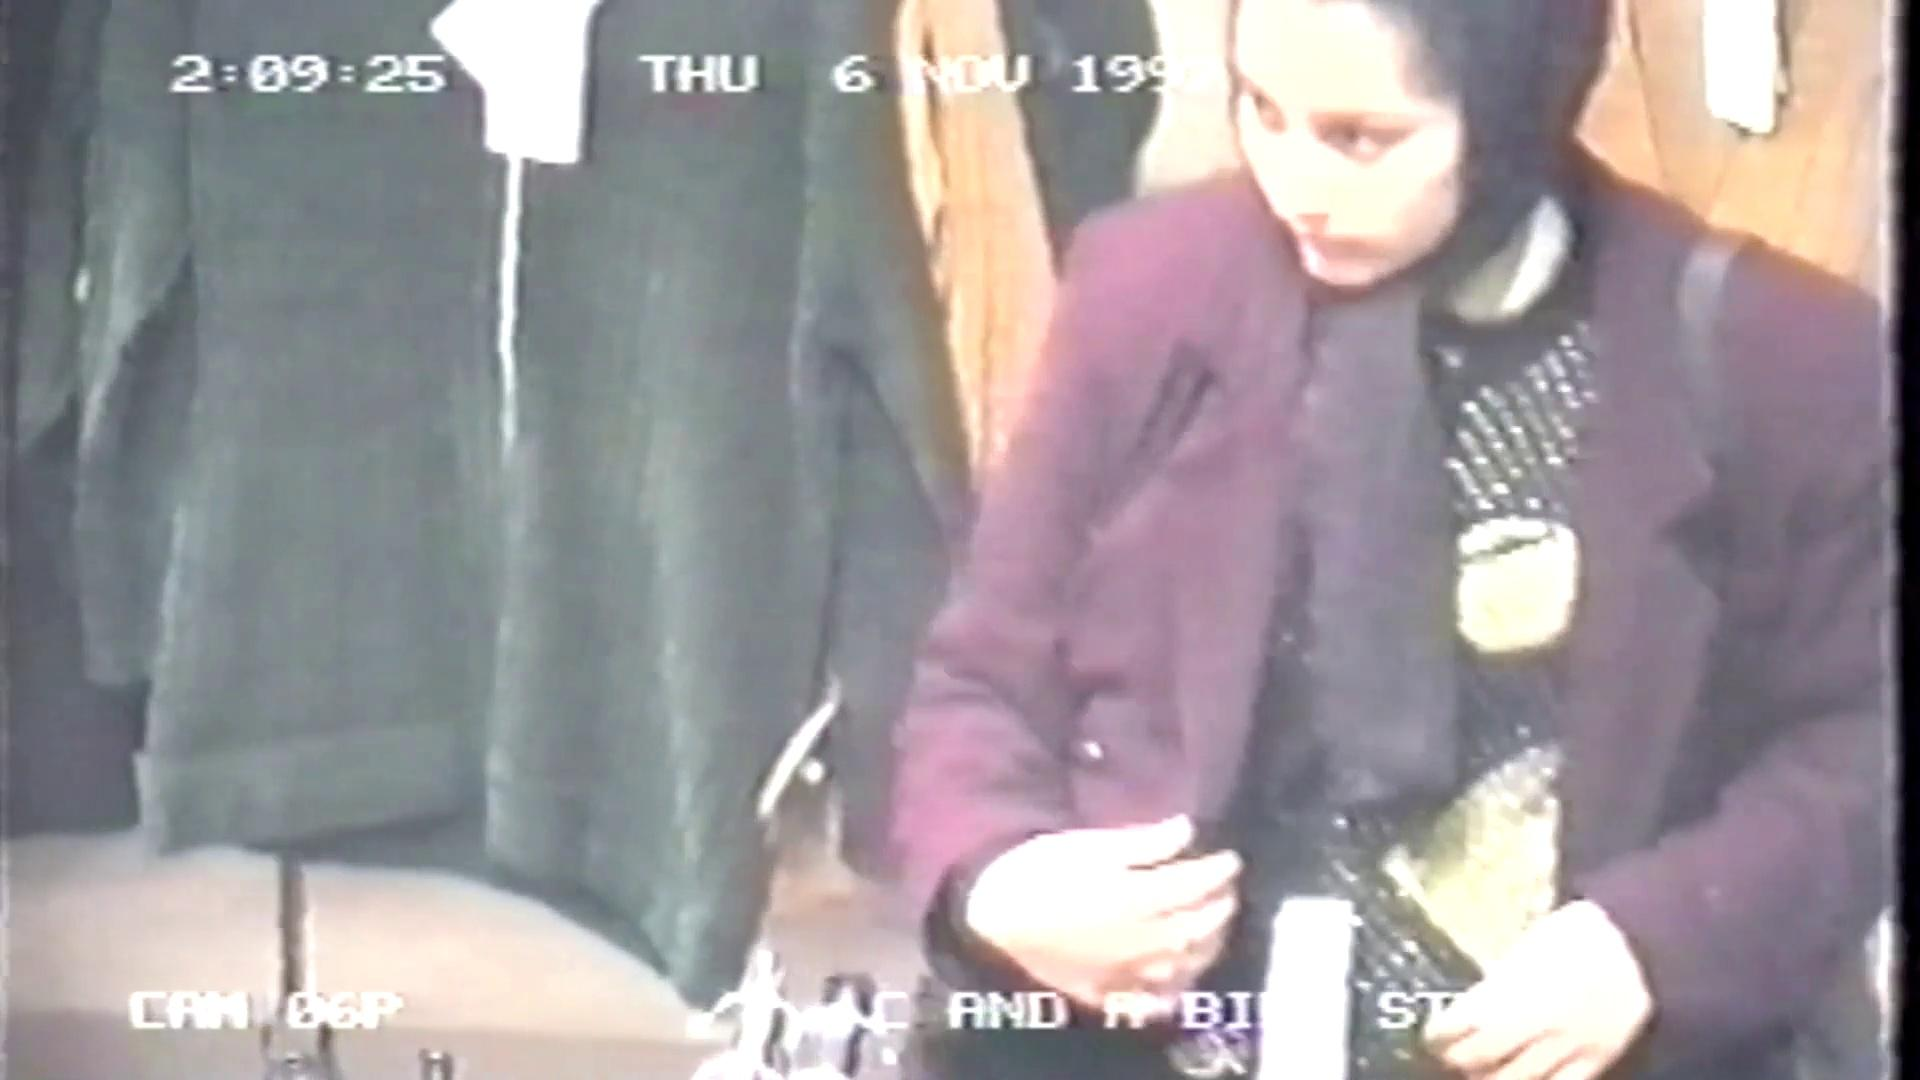Regular: (746, 7, 1891, 1080)
